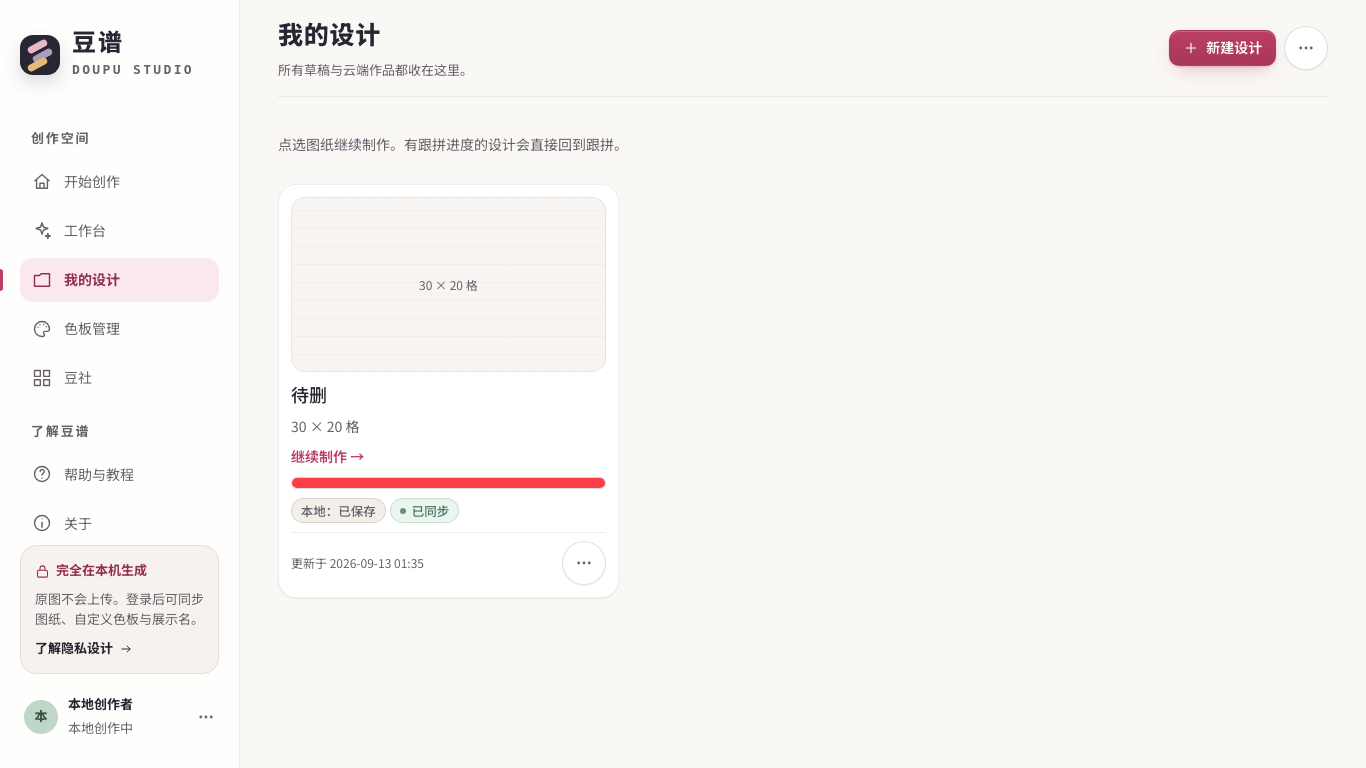
Scenario: DesignsView › 删除：确认后本地墓碑 + 云端删除
Expected: the text "待删" is shown, [291, 384, 327, 406]
Click the button named "管理：待删" at (584, 563), box [562, 541, 606, 585]
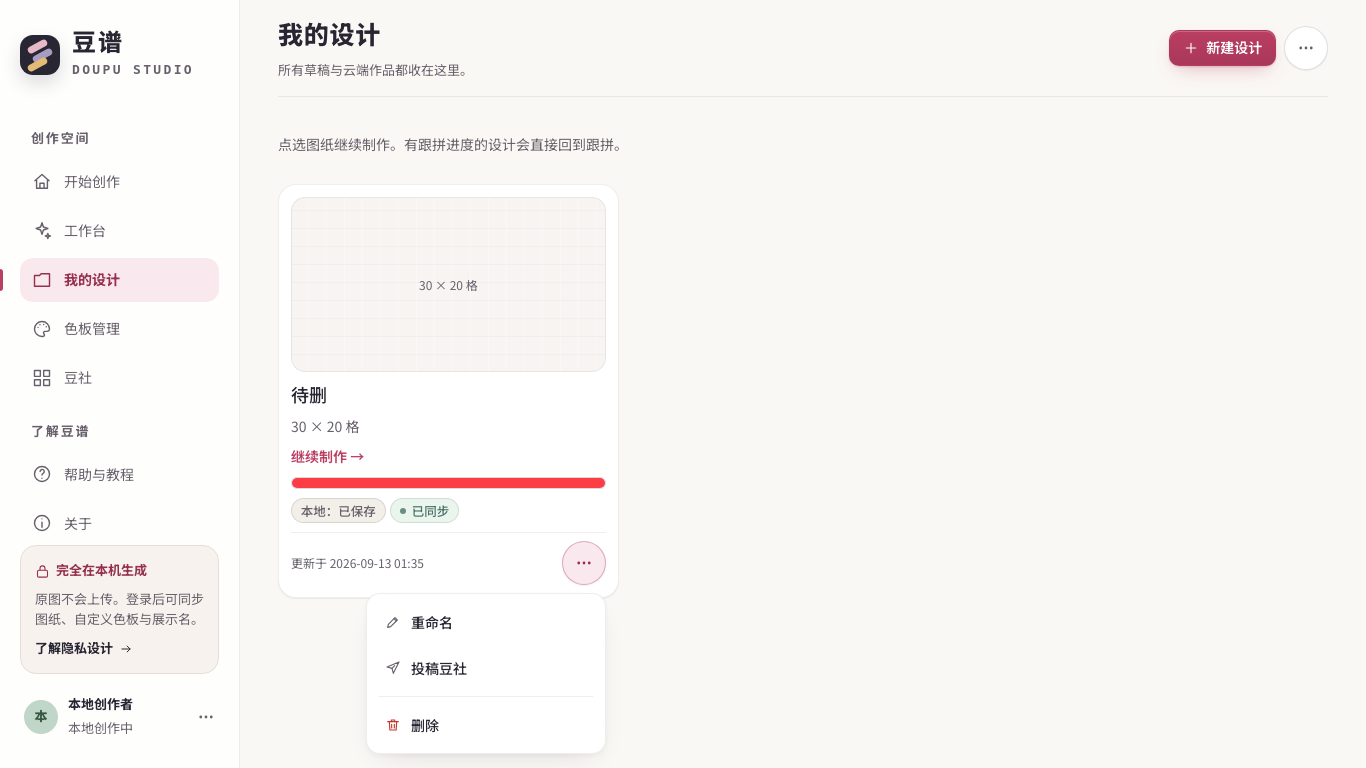
Click the button "删除" at (486, 725), box [373, 703, 599, 747]
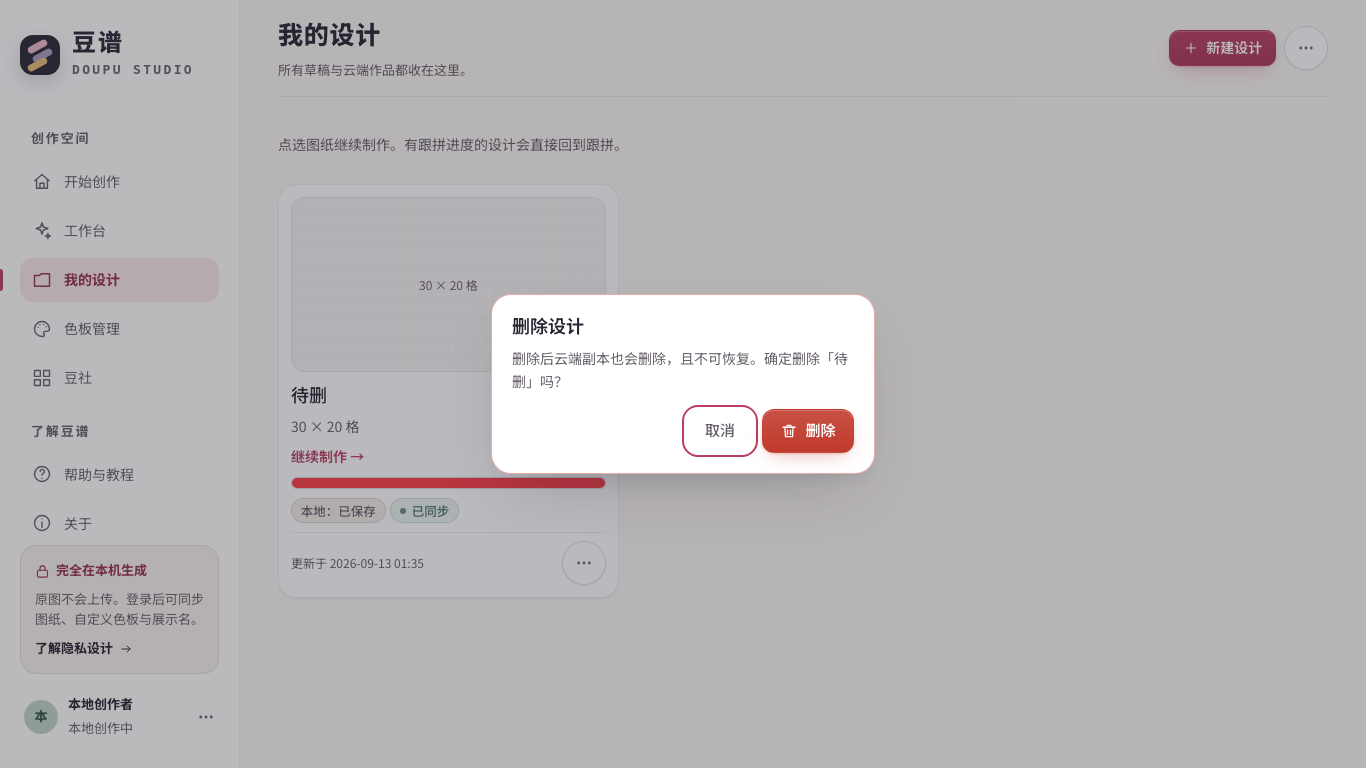
Expected: the text "删除后云端副本也会删除，且不可恢复。确定删除「待删」吗？" is shown, [512, 347, 854, 393]
Modal 会将背景 inert；此时可访问树里只剩弹窗内的确认按钮。
Click the button "删除" at (808, 431), box [762, 409, 854, 453]
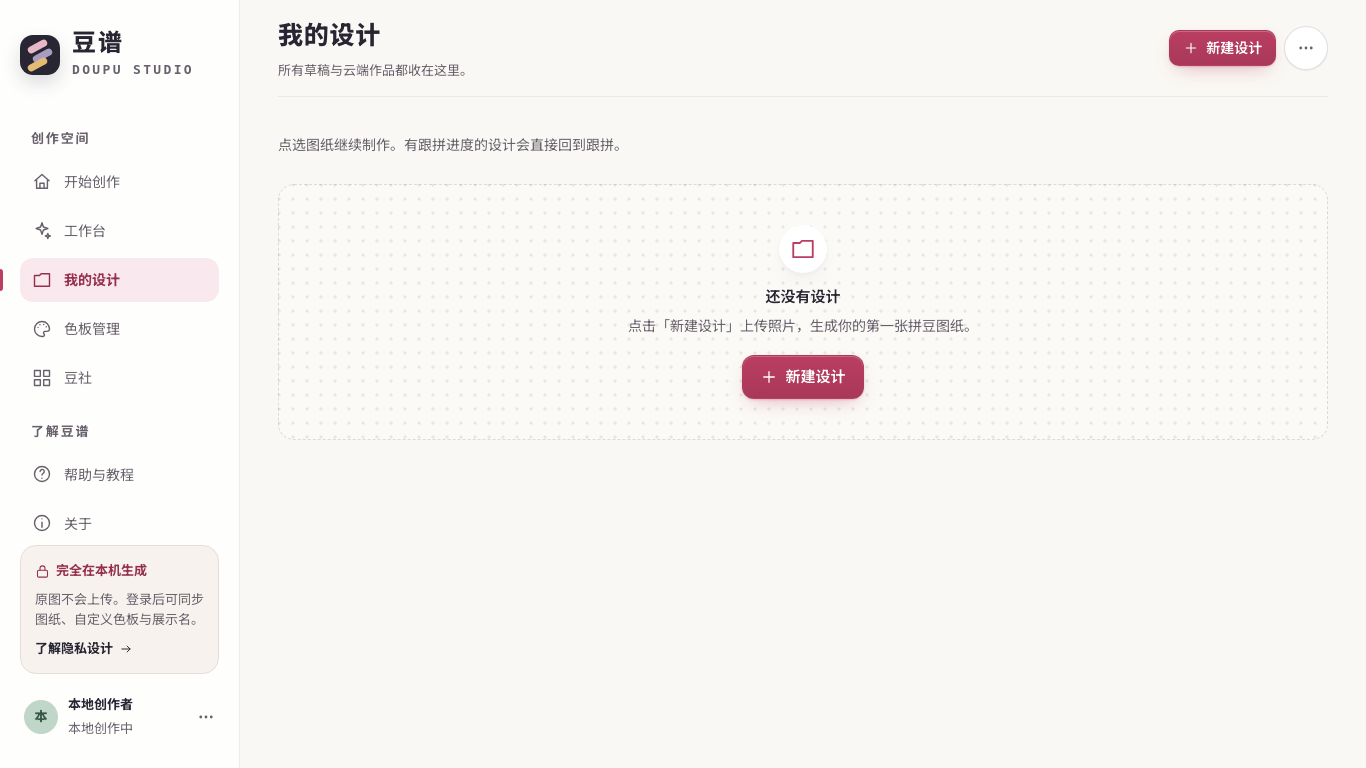
Expected: the button "待删" is gone
